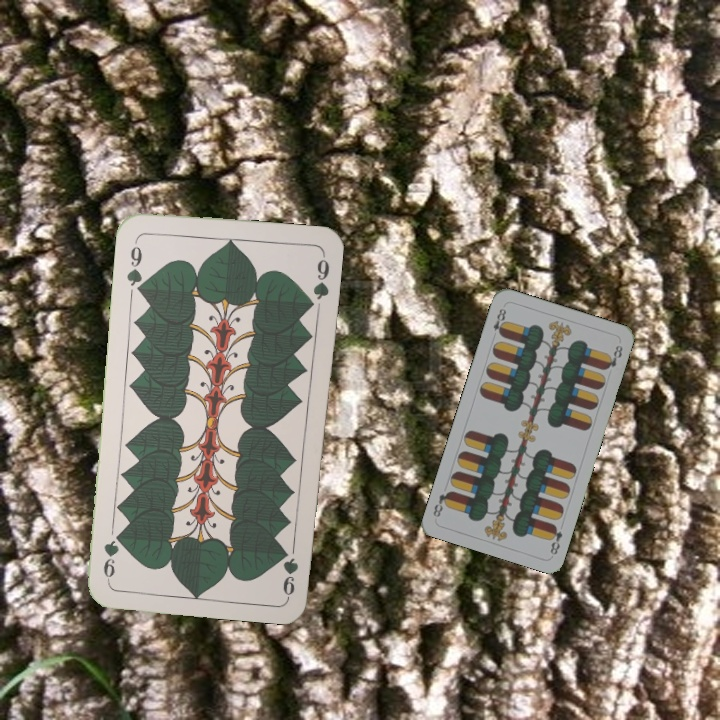E8: (545, 521, 565, 557), (489, 304, 509, 338)
G9: (122, 235, 146, 295), (279, 548, 301, 599)
